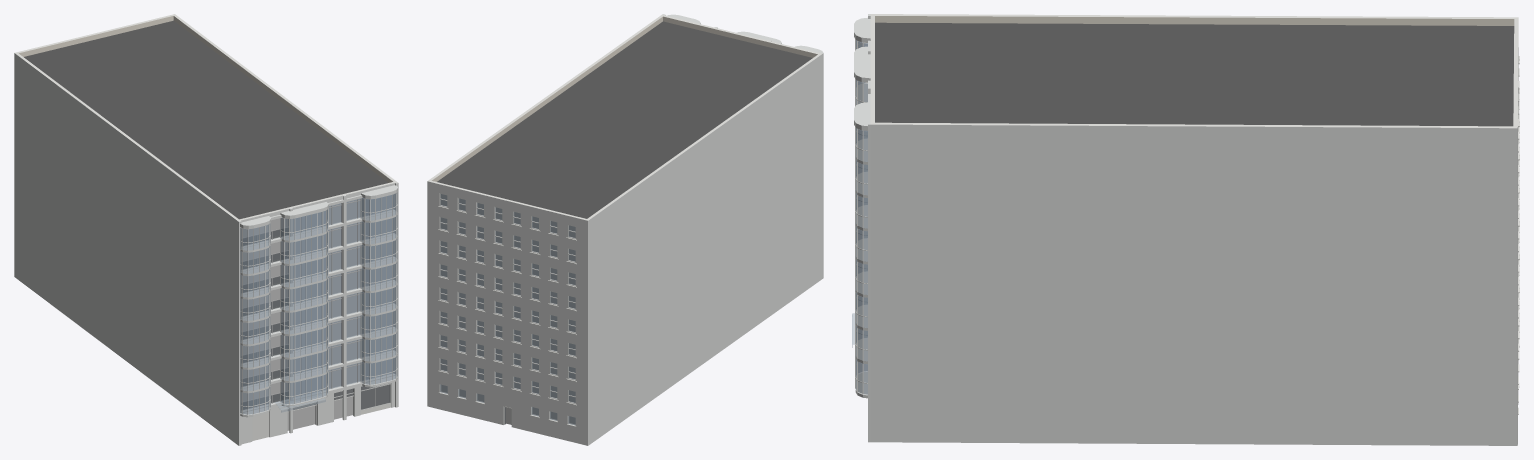
Rendered from exterior.glb.
3 views of the same model, side by side, from view 1: azimuth 30°, elevation 25°; view 2: azimuth 150°, elevation 25°; view 3: azimuth 270°, elevation 25° (orthographic). The views are drawn at different scales.
Parts seen in each view (by area): view 1: shell, roof, bay-glazing, glazing, shadow-proxy, bay-windows, relief-3, frames, storefront; view 2: shell, roof, glazing, shadow-proxy, frames, trim, relief-3, bay-windows; view 3: shell, roof, bay-windows, bay-glazing, relief-3, trim.
Part boxes in pixels (bbox=[...]): shell: bbox=[14, 14, 397, 444]; roof: bbox=[24, 20, 387, 219]; bay-glazing: bbox=[240, 191, 397, 414]; glazing: bbox=[243, 195, 393, 411]; shadow-proxy: bbox=[241, 195, 391, 430]; bay-windows: bbox=[240, 185, 397, 417]; relief-3: bbox=[238, 182, 398, 445]; frames: bbox=[301, 197, 381, 395]; storefront: bbox=[243, 218, 390, 440]; shell: bbox=[427, 15, 822, 445]; roof: bbox=[437, 21, 812, 218]; glazing: bbox=[440, 194, 575, 425]; shadow-proxy: bbox=[441, 194, 575, 424]; frames: bbox=[439, 193, 575, 404]; trim: bbox=[438, 206, 576, 426]; relief-3: bbox=[662, 14, 823, 278]; bay-windows: bbox=[667, 14, 823, 52]; shell: bbox=[870, 14, 1518, 445]; roof: bbox=[875, 22, 1514, 126]; bay-windows: bbox=[854, 17, 870, 398]; bay-glazing: bbox=[855, 39, 867, 394]; relief-3: bbox=[868, 14, 870, 442]; trim: bbox=[1518, 56, 1519, 414].
Bounding box in the file's own units: 20.68 × 26.81 × 51.06.
